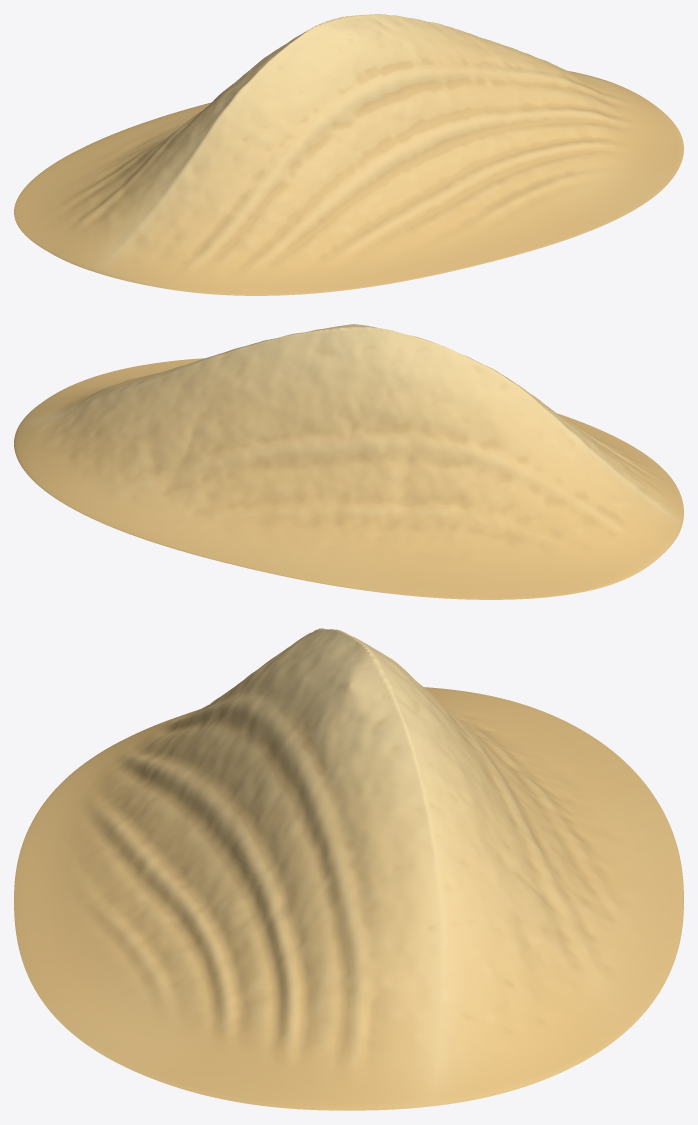
Rendered from SD_B03_Dune_Ridge.fbx.
The picture shows the model from 3 angles, top to bottom: view 1: azimuth 30°, elevation 25°; view 2: azimuth 150°, elevation 25°; view 3: azimuth 270°, elevation 25°; orthographic projection. The views are drawn at different scales.
Parts seen in each view (by area): view 1: Dune_LOD0; view 2: Dune_LOD0; view 3: Dune_LOD0.
Boxes of the visible parts, left/top/right/bottom form: Dune_LOD0: left=14, top=14, right=683, bottom=295; Dune_LOD0: left=14, top=324, right=683, bottom=599; Dune_LOD0: left=14, top=628, right=683, bottom=1110.
Size of what is drawn, in the model's own units: 24 by 6 by 16.
